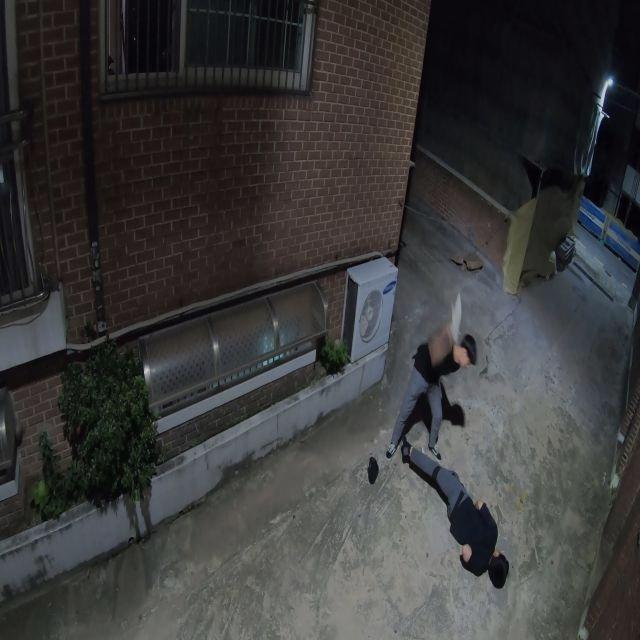fight: (385, 310, 510, 594)
